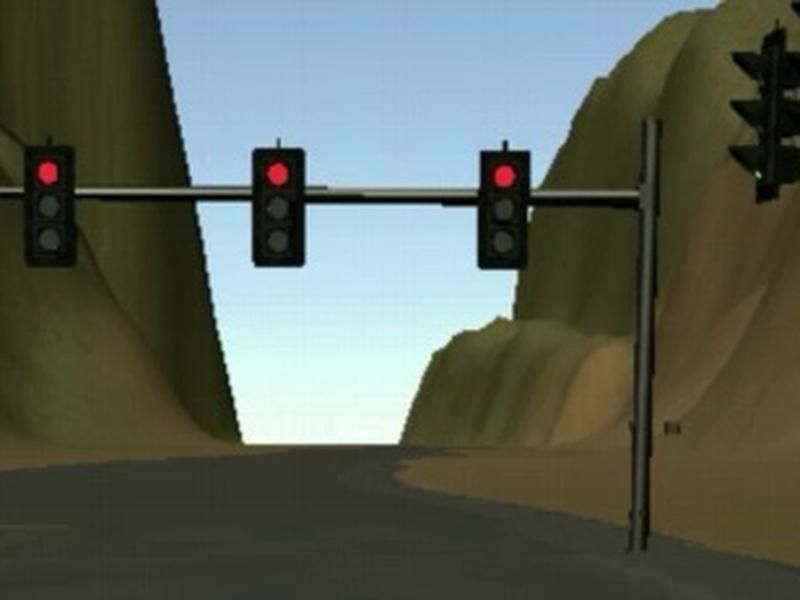Red: (253, 147, 306, 267), (478, 150, 530, 269), (24, 145, 74, 266)
